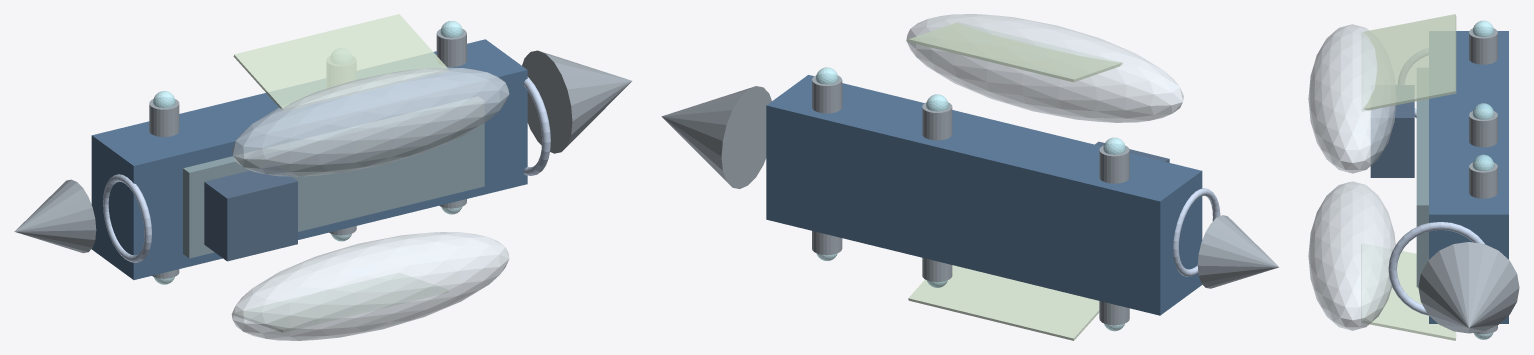
Rendered from SKYSHIP_08_TEMPEST_FRIGATE_tempest_frigate.glb.
3 renders of one model, left to right at view 1: azimuth 30°, elevation 25°; view 2: azimuth 150°, elevation 25°; view 3: azimuth 270°, elevation 25°, orthographic. The views are drawn at different scales.
Visible parts, largest first — view 1: aetherwood_hull, upper_deck, left_aether_cell, right_aether_cell, right_lift_sail, command_cabin, forward_ram, left_lift_sail, stern_finial, stern_docking_ring, right_thruster_-1.89, right_thruster_2.06 (+2 smaller); view 2: aetherwood_hull, right_aether_cell, left_lift_sail, forward_ram, right_lift_sail, stern_finial, right_thruster_-1.89, right_thruster_0.54, right_thruster_2.06, stern_docking_ring, left_thruster_-1.89, left_thruster_2.06 (+1 smaller); view 3: aetherwood_hull, left_aether_cell, right_aether_cell, right_lift_sail, forward_ram, left_lift_sail, command_cabin, upper_deck, forward_docking_ring, right_thruster_0.54, right_thruster_2.06, right_thruster_-1.89 (+4 smaller).
Part boxes in pixels (<box>): aetherwood_hull: <box>91,39,527,279</box>; upper_deck: <box>183,96,484,258</box>; left_aether_cell: <box>231,232,509,340</box>; right_aether_cell: <box>232,67,509,176</box>; right_lift_sail: <box>233,14,448,111</box>; command_cabin: <box>204,165,297,261</box>; forward_ram: <box>522,50,631,153</box>; left_lift_sail: <box>234,273,448,332</box>; stern_finial: <box>14,179,96,253</box>; stern_docking_ring: <box>103,174,151,262</box>; right_thruster_-1.89: <box>149,97,179,136</box>; right_thruster_2.06: <box>436,27,466,66</box>; aetherwood_hull: <box>766,75,1202,315</box>; right_aether_cell: <box>906,14,1183,122</box>; left_lift_sail: <box>908,265,1099,340</box>; forward_ram: <box>661,86,771,188</box>; right_lift_sail: <box>908,22,1122,82</box>; stern_finial: <box>1197,215,1278,288</box>; right_thruster_-1.89: <box>1099,144,1129,183</box>; right_thruster_0.54: <box>922,101,952,140</box>; right_thruster_2.06: <box>812,74,842,113</box>; stern_docking_ring: <box>1173,188,1220,276</box>; left_thruster_-1.89: <box>1099,301,1129,325</box>; left_thruster_2.06: <box>812,231,842,254</box>; aetherwood_hull: <box>1429,31,1508,323</box>; left_aether_cell: <box>1308,181,1395,330</box>; right_aether_cell: <box>1308,24,1395,173</box>; right_lift_sail: <box>1361,14,1456,111</box>; forward_ram: <box>1418,242,1519,333</box>; left_lift_sail: <box>1361,243,1456,340</box>; command_cabin: <box>1370,85,1414,177</box>; upper_deck: <box>1416,68,1428,287</box>; forward_docking_ring: <box>1388,222,1484,315</box>; right_thruster_0.54: <box>1469,109,1497,147</box>; right_thruster_2.06: <box>1469,161,1497,198</box>; right_thruster_-1.89: <box>1469,27,1497,64</box>.
Size of the model in its own units: 8.5 by 3.43 by 2.63.
